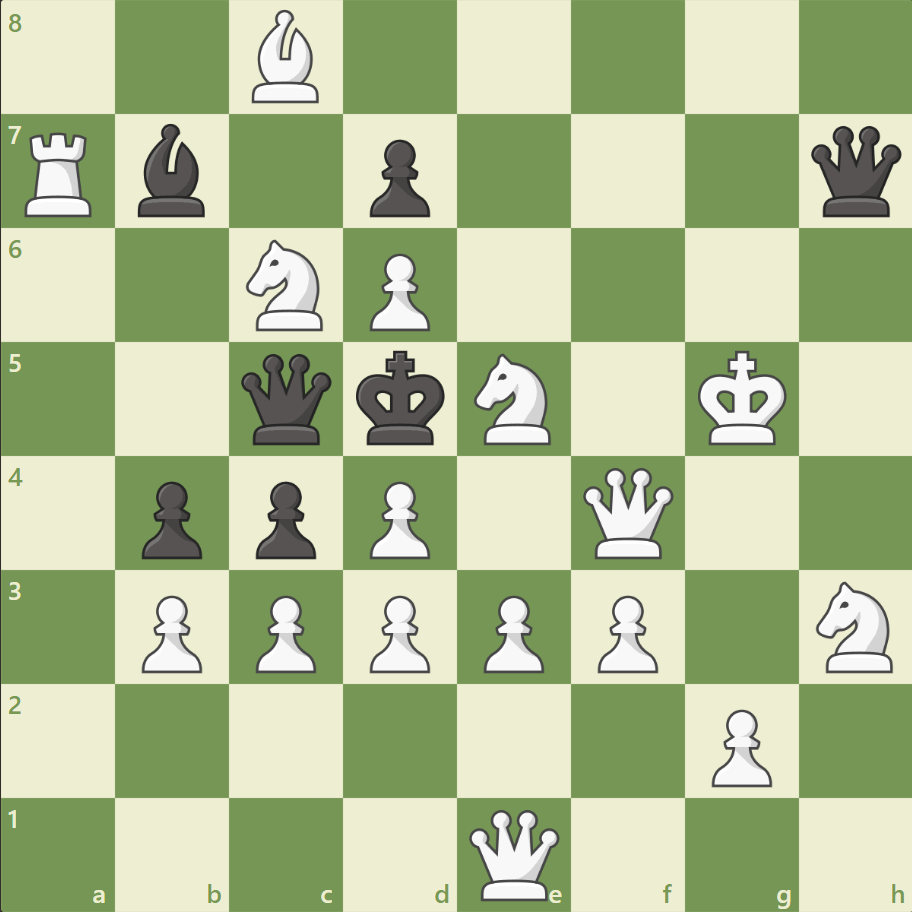B: (244, 6, 328, 109)
K: (692, 344, 792, 452)
N: (238, 234, 335, 337), (465, 348, 562, 450), (806, 575, 903, 677)
P: (133, 586, 208, 677), (247, 586, 322, 677), (474, 586, 549, 677), (701, 700, 776, 791), (361, 246, 435, 337), (361, 473, 435, 564), (361, 586, 435, 677), (588, 586, 662, 677)
Q: (578, 463, 677, 562), (464, 804, 563, 903)
R: (19, 125, 102, 222)
b: (131, 120, 215, 222)
k: (351, 344, 451, 452)
p: (133, 473, 208, 564), (247, 473, 322, 564), (361, 132, 435, 223)
q: (805, 122, 904, 222), (237, 349, 336, 449)
